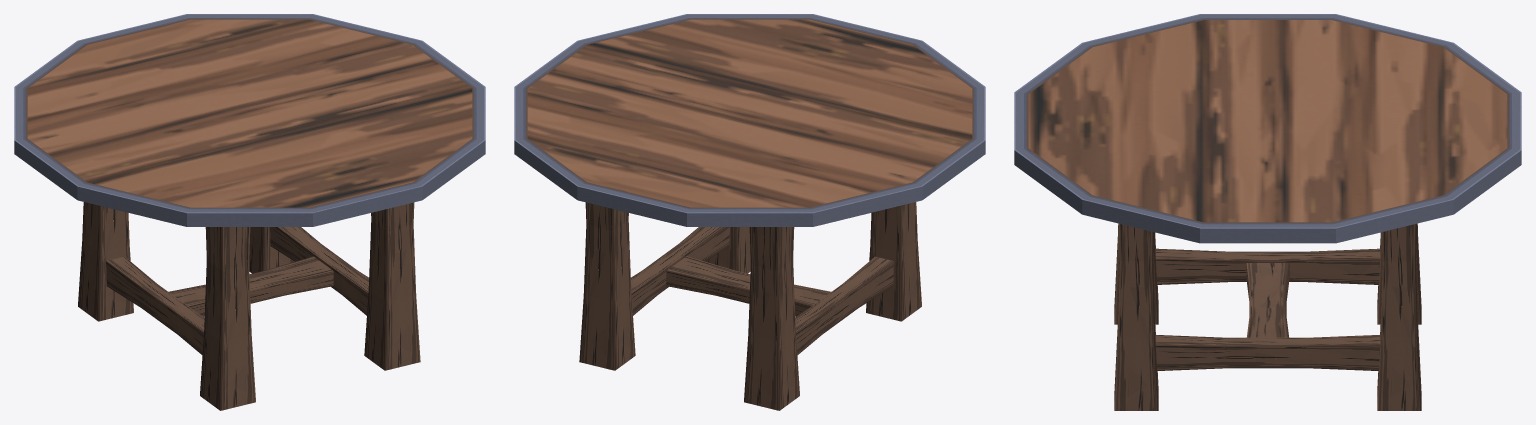
The model's file is furniture_table_round_02.fbx.
The picture shows the model from 3 angles, left to right: view 1: azimuth 30°, elevation 25°; view 2: azimuth 150°, elevation 25°; view 3: azimuth 270°, elevation 25°; orthographic projection. The views are drawn at different scales.
Parts seen in each view (by area): view 1: furniture_table_round_02; view 2: furniture_table_round_02; view 3: furniture_table_round_02.
Part boxes in pixels (x1,y1,x2,y2): furniture_table_round_02: (14,14,485,410); furniture_table_round_02: (514,14,985,410); furniture_table_round_02: (1014,14,1521,410).
Bounding box in the file's own units: 1.55 × 0.798 × 1.55.
1 material, 1 textured.
